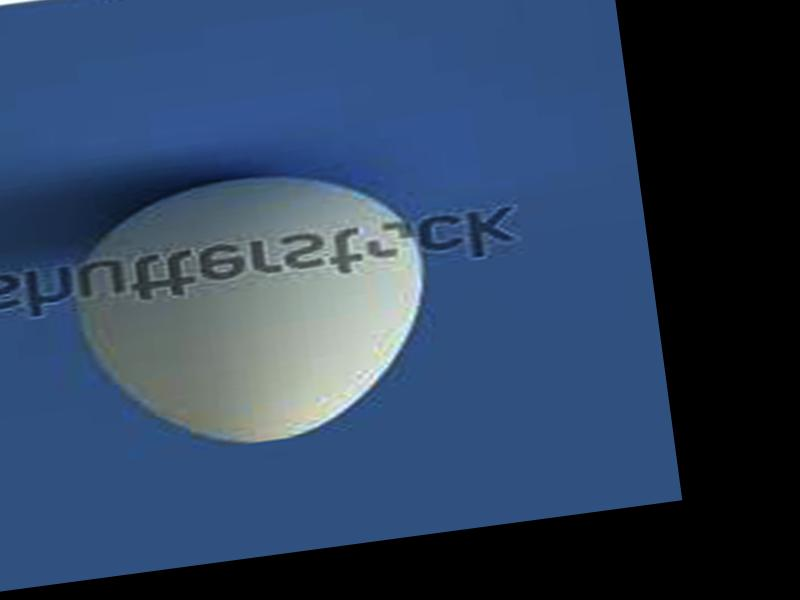Eggs: (62, 153, 444, 463)
